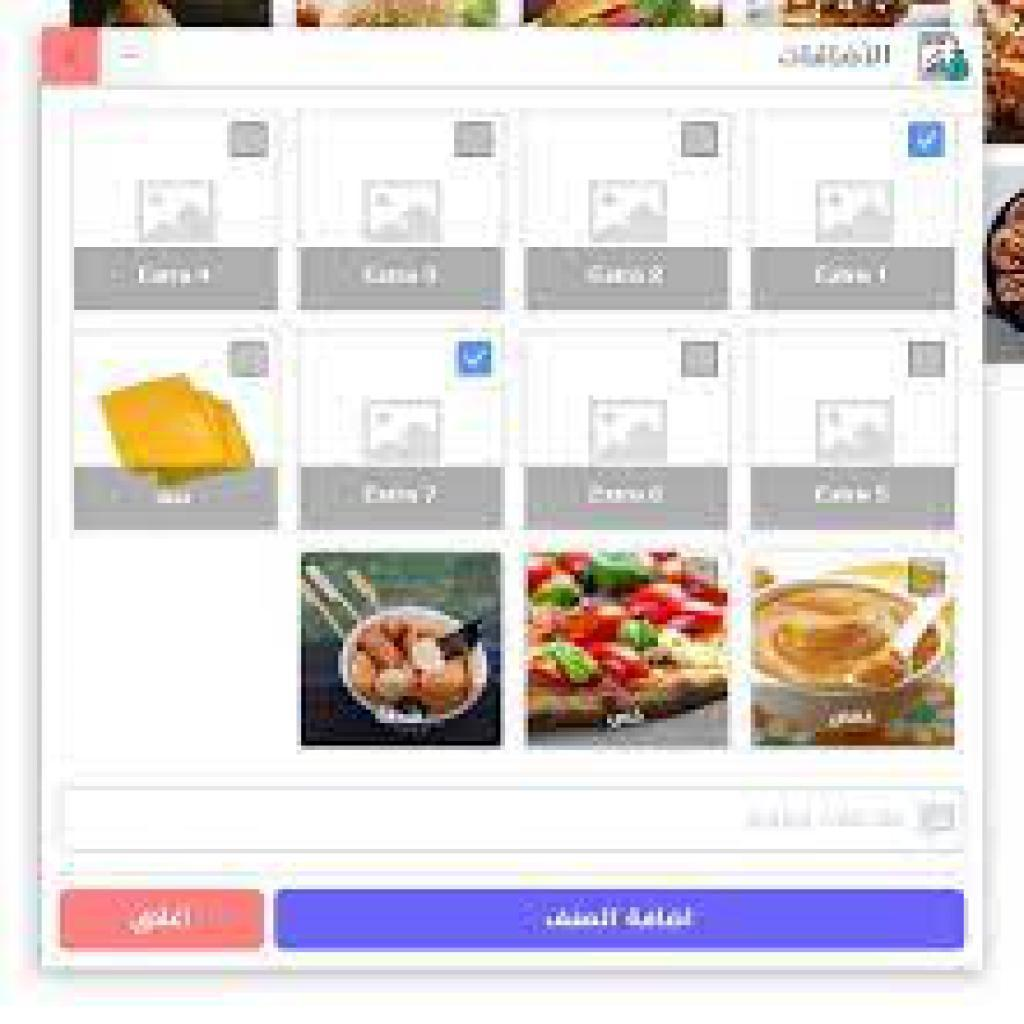button: (273, 886, 965, 956), (60, 887, 267, 953)
checkbox: (230, 118, 270, 160), (228, 340, 269, 379), (908, 340, 948, 379), (681, 120, 720, 160), (679, 341, 720, 378), (455, 121, 495, 158), (909, 122, 948, 157), (458, 337, 493, 375)
input: (64, 784, 964, 852)
